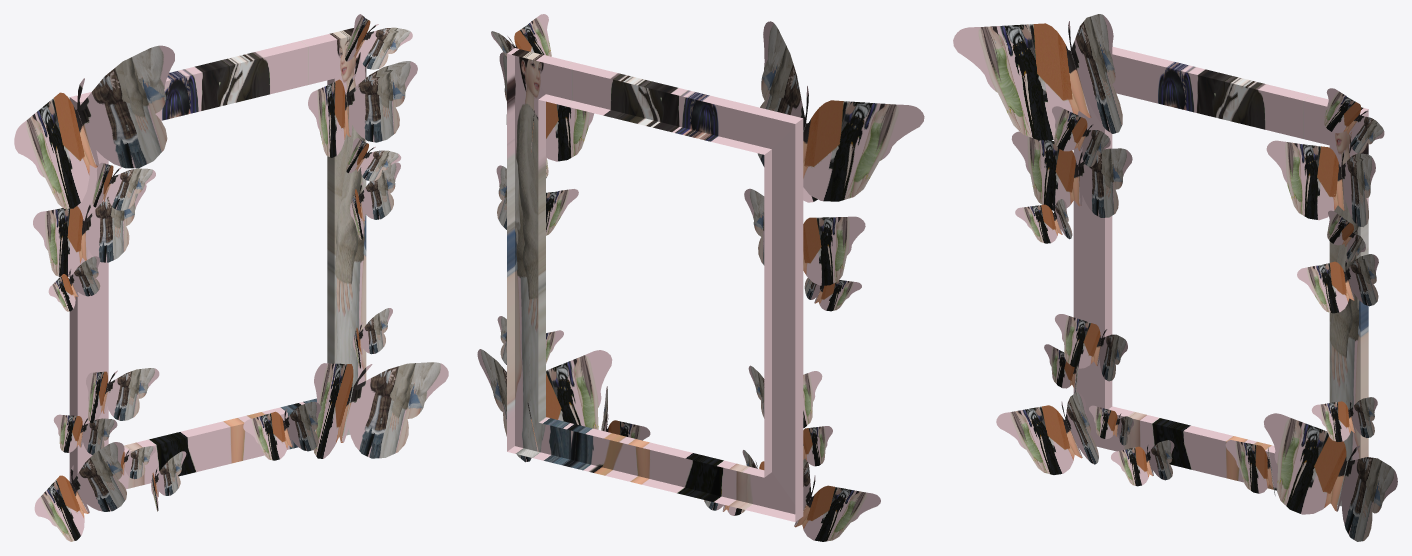
The model's file is frame_1.fbx.
The picture shows the model from 3 angles, left to right: view 1: azimuth 30°, elevation 25°; view 2: azimuth 150°, elevation 25°; view 3: azimuth 330°, elevation 25°; orthographic projection.
Visible parts, largest first — view 1: Cube.022; view 2: Cube.022; view 3: Cube.022.
Boxes of the visible parts, bbox=[...] form: Cube.022: bbox=[14, 14, 448, 541]; Cube.022: bbox=[477, 14, 924, 541]; Cube.022: bbox=[953, 14, 1397, 541].
Bounding box in the file's own units: 81.61 × 86.89 × 11.87.
